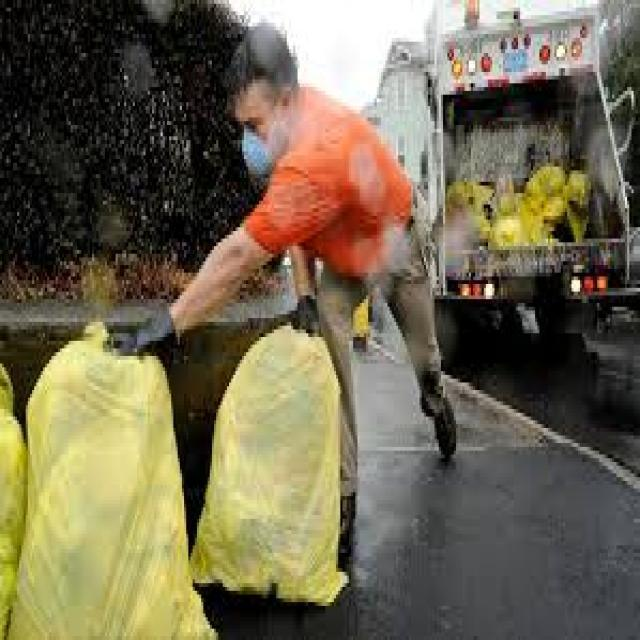Garbage_Bag: (12, 310, 218, 636), (188, 299, 366, 614)
